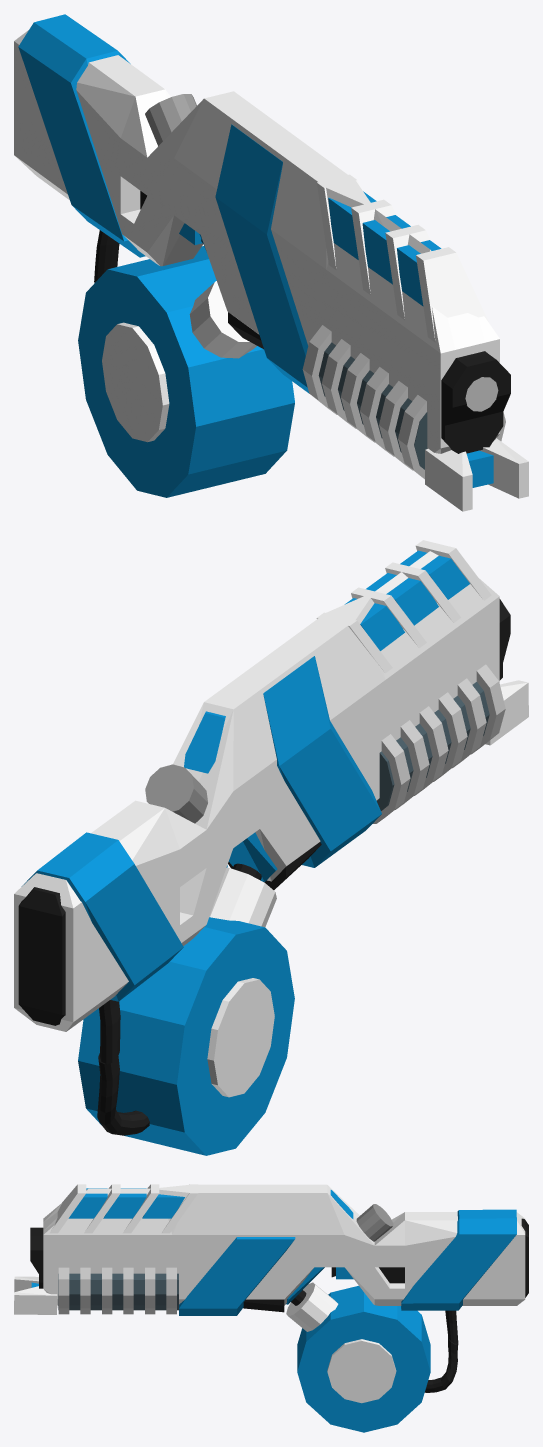
The model's file is gun3.fbx.
3 renders of one model, top to bottom at view 1: azimuth 30°, elevation 25°; view 2: azimuth 150°, elevation 25°; view 3: azimuth 270°, elevation 25°, orthographic. The views are drawn at different scales.
Parts seen in each view (by area): view 1: GUn2; view 2: GUn2; view 3: GUn2.
Part boxes in pixels (bbox=[...]): GUn2: bbox=[14, 14, 528, 511]; GUn2: bbox=[14, 540, 528, 1155]; GUn2: bbox=[14, 1184, 528, 1432].
Size of the model in its own units: 17 by 59 by 120.
